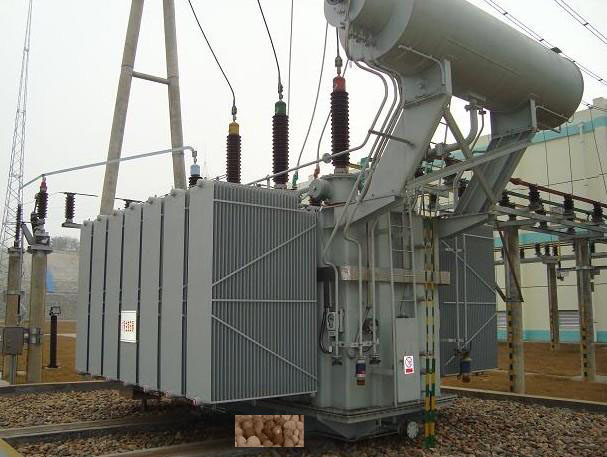oil: (233, 409, 304, 449)
